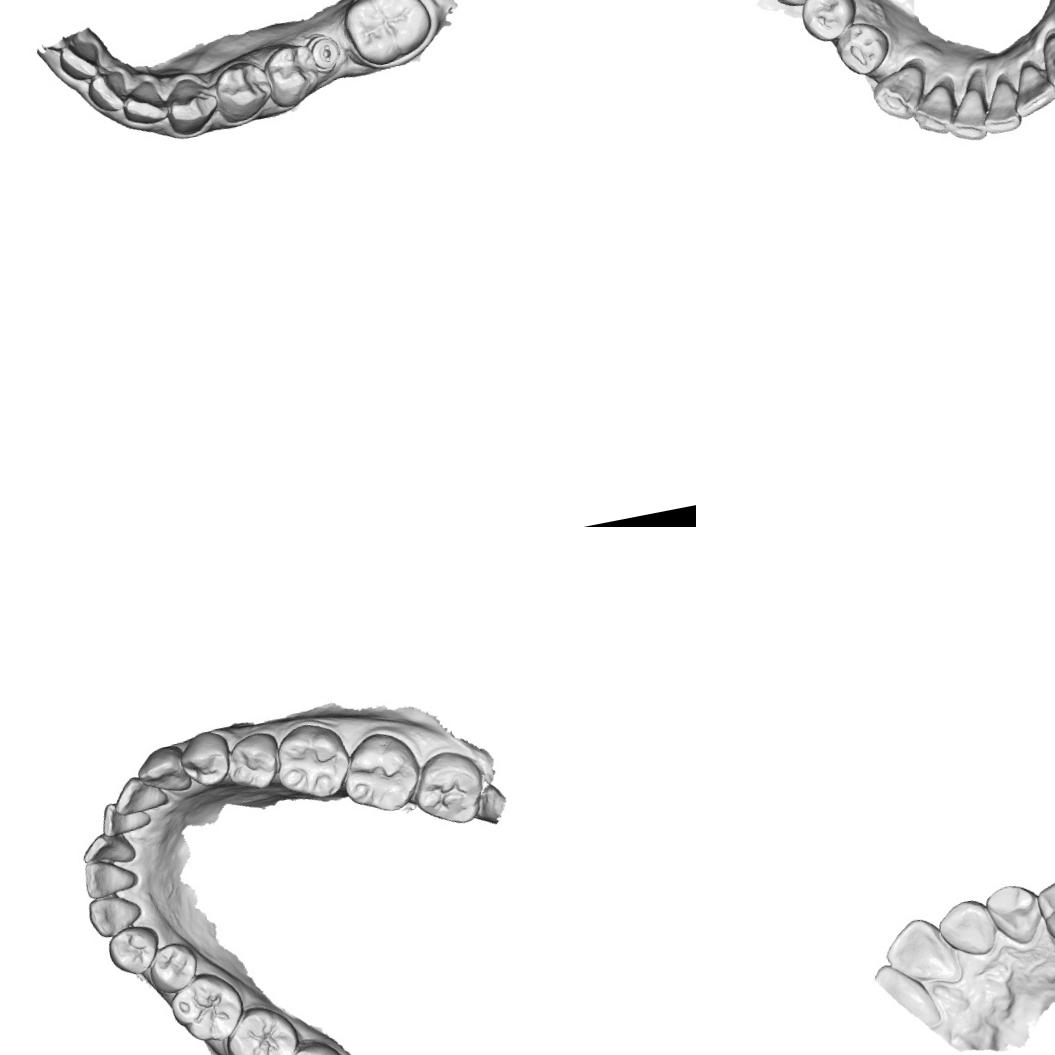canine: (982, 879, 1046, 949), (866, 60, 932, 126), (156, 71, 220, 139), (132, 742, 193, 798), (83, 888, 145, 941), (1036, 27, 1055, 93)
implant_minus: (306, 28, 348, 78)
incisor: (879, 910, 966, 996), (932, 895, 1001, 963), (904, 76, 963, 142), (116, 74, 173, 131), (942, 83, 993, 146), (973, 76, 1024, 138), (1005, 56, 1055, 119), (77, 852, 140, 901), (109, 770, 170, 818), (53, 35, 107, 84), (84, 66, 134, 118), (78, 826, 137, 870), (96, 795, 154, 838)
molar: (336, 725, 426, 820), (268, 716, 355, 804), (406, 745, 490, 832), (338, 0, 439, 72), (165, 965, 249, 1050), (218, 998, 304, 1055), (275, 1034, 354, 1055)
premolar: (209, 52, 278, 126), (260, 36, 324, 110), (829, 15, 896, 80), (220, 728, 285, 795), (102, 920, 166, 980), (175, 727, 234, 791), (143, 938, 202, 997), (794, 0, 863, 46), (1031, 873, 1055, 951)
